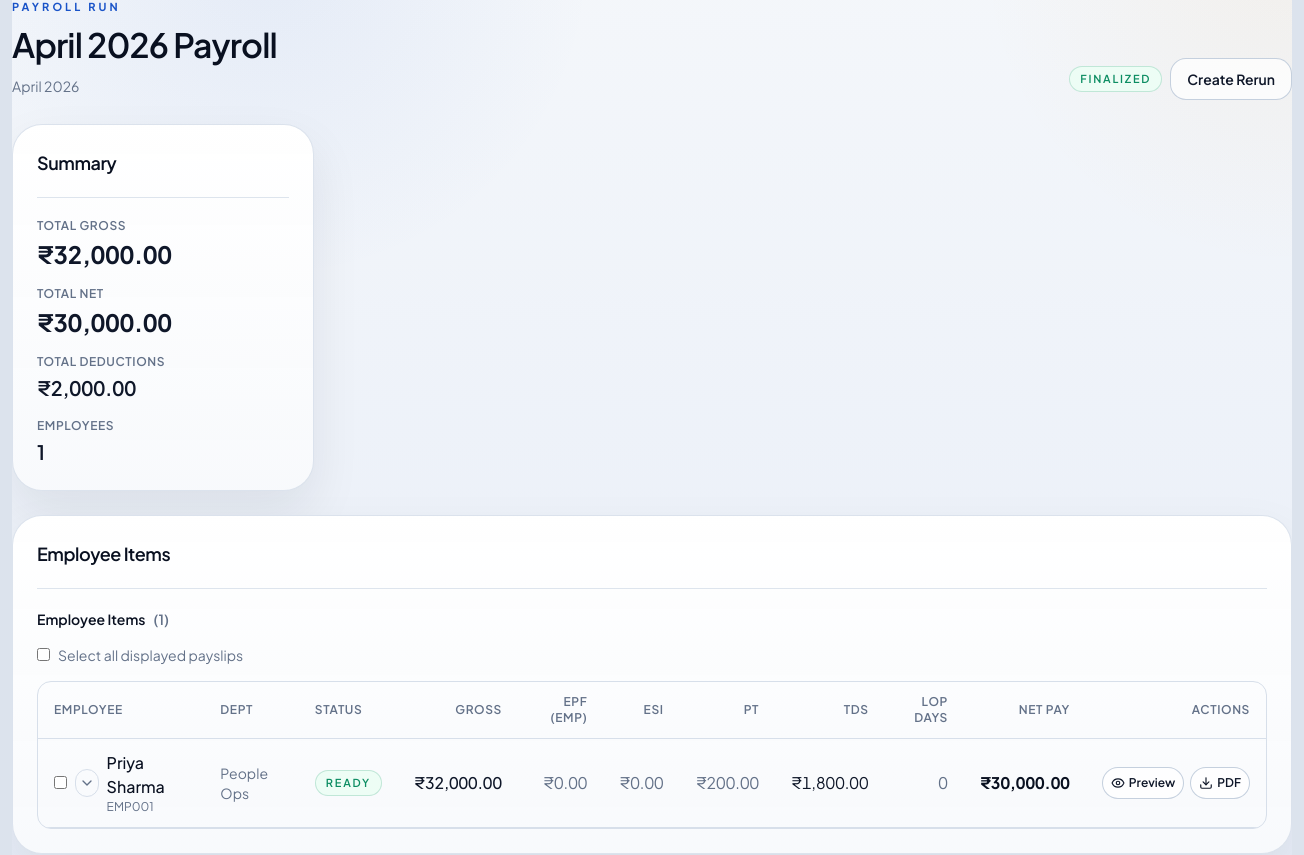
PayrollRunDetailPage › shows separate EPF and EPS employer contribution lines in the expanded row
Click the button named "Expand payroll details for Priya Sharma".
click(87, 783)  # box [75, 769, 99, 797]
(page scrolled)
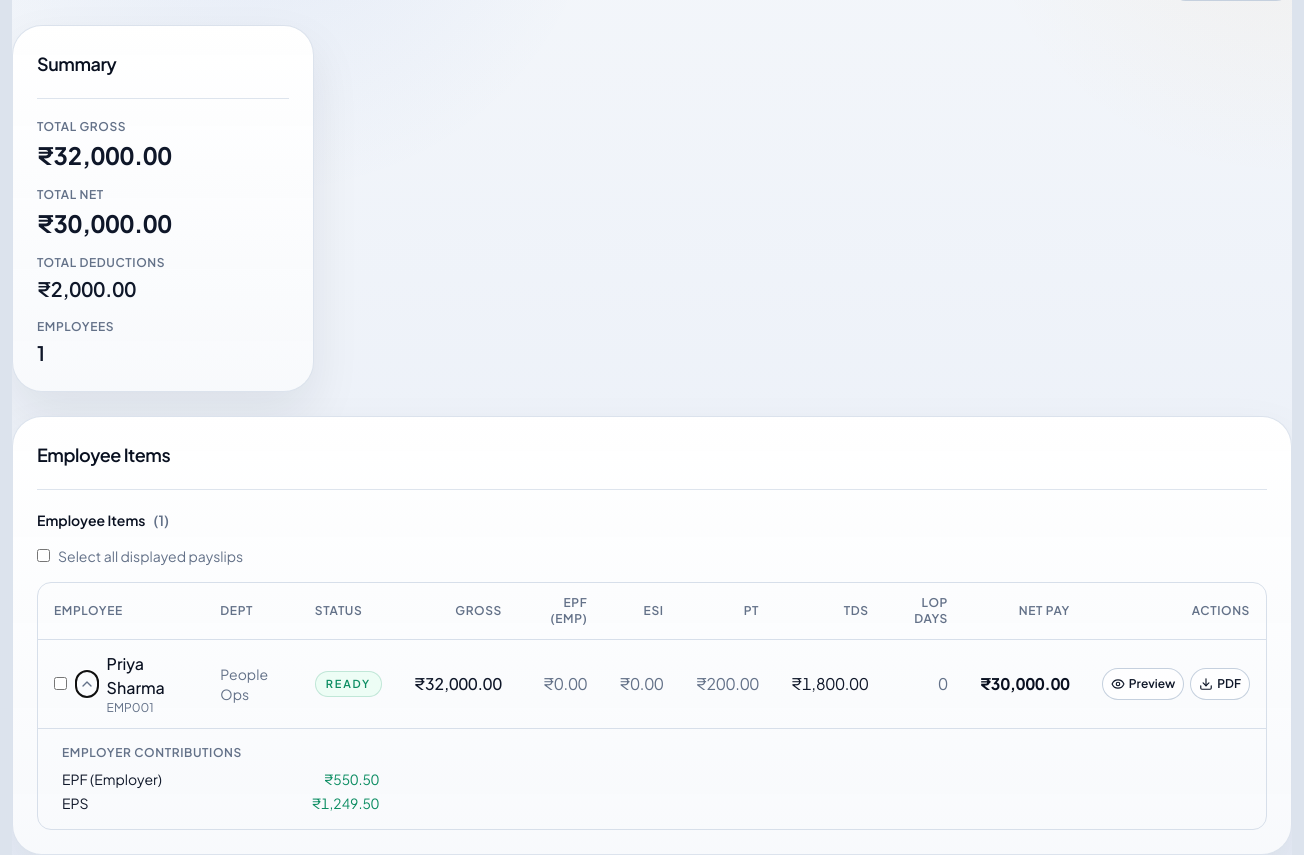
Expected: the text "EPF (Employer)" is shown, [62, 769, 162, 789]
Expected: the text "EPS" is shown, [62, 793, 89, 813]
